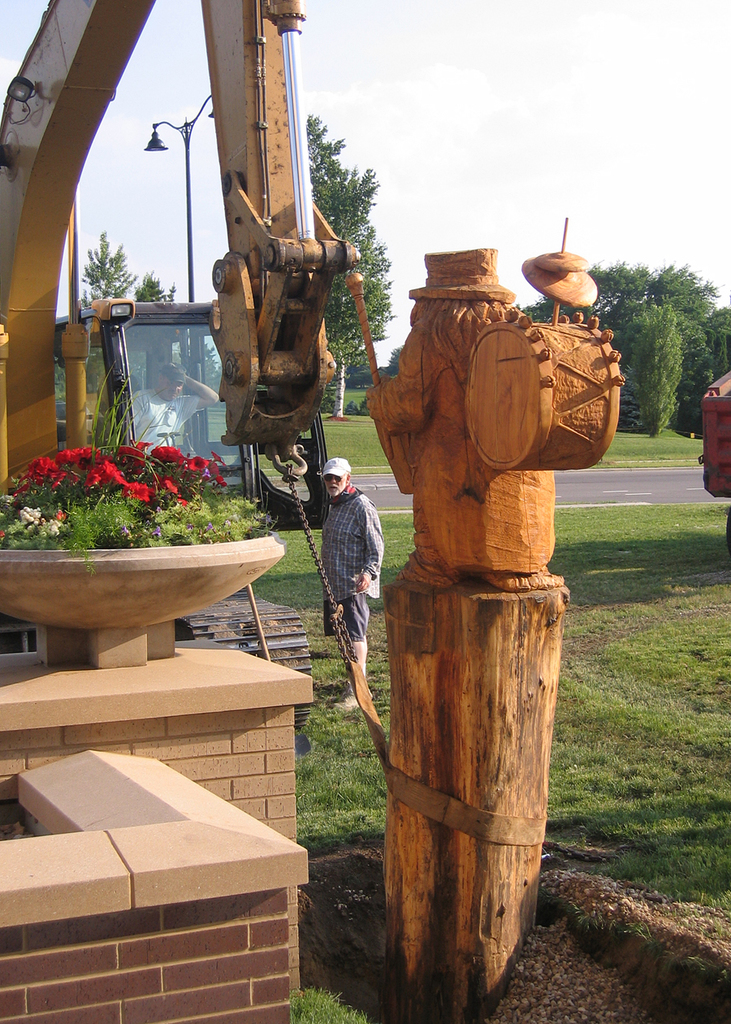Tree: (387, 253, 731, 438), (302, 111, 394, 414), (58, 338, 224, 401), (80, 224, 137, 305), (132, 270, 174, 303)
